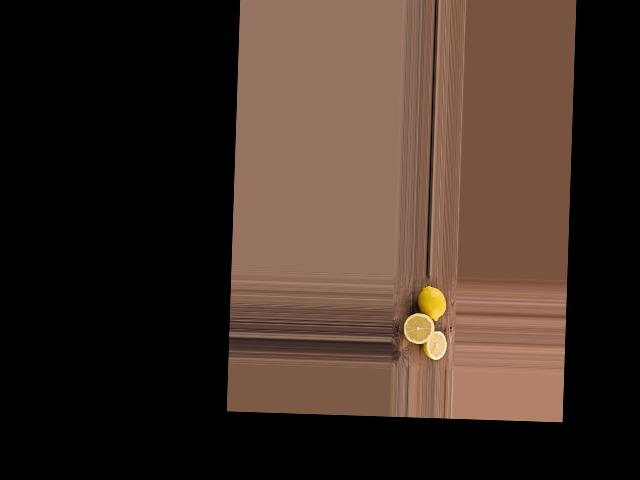lemon: (416, 287, 450, 321)
